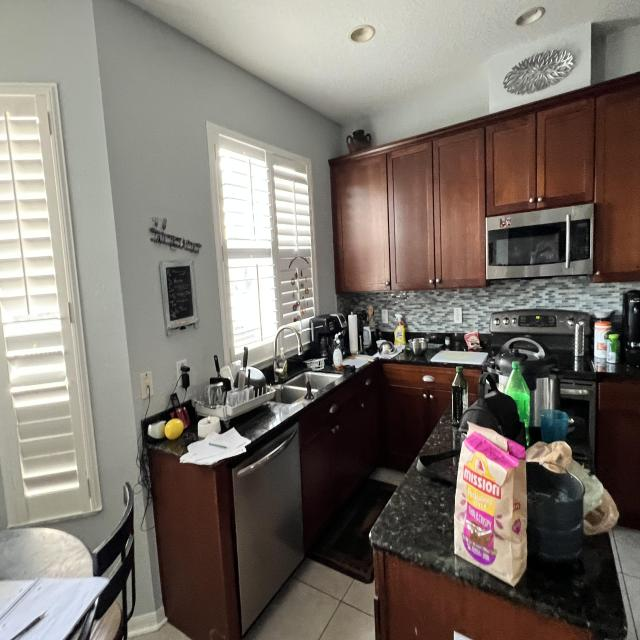Appliance_Dishwasher: (231, 422, 307, 637)
Appliance_Microwave: (486, 203, 598, 282)
Appliance_Oven: (489, 307, 600, 475)
Appliance_Sink: (269, 323, 341, 404)
Cabinet_Flat: (299, 362, 456, 438), (599, 381, 640, 412)
Cabinet_Shaker: (331, 78, 640, 296), (302, 386, 450, 544), (598, 412, 640, 529)
Countertop_Granite: (370, 412, 627, 640), (232, 400, 310, 441), (393, 349, 441, 362)
